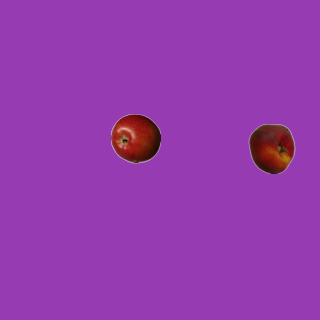Apple Braeburn: (110, 113, 160, 163)
Nectarine Flat: (246, 123, 296, 173)
